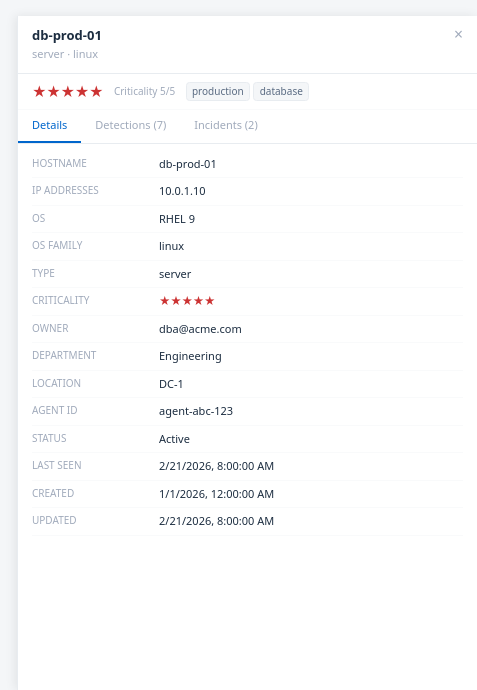
AssetPanel › Detections tab › shows detection name after loading
Click the button "Detections (7)".
click(131, 127)  # box [81, 110, 180, 143]
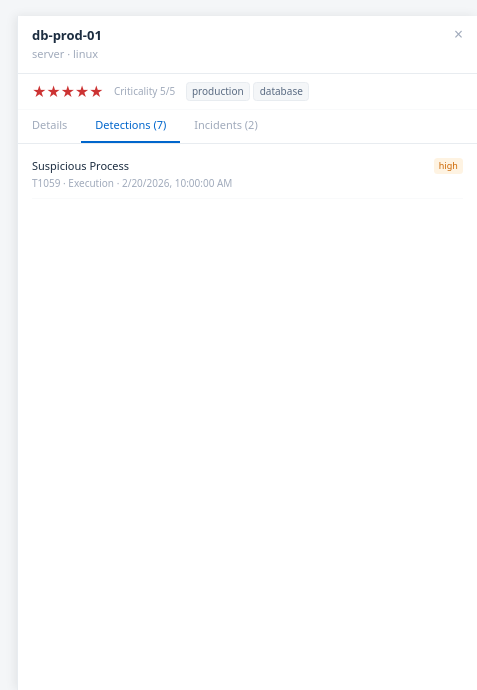
Now the text "Suspicious Process" is shown, box [32, 158, 129, 174]
